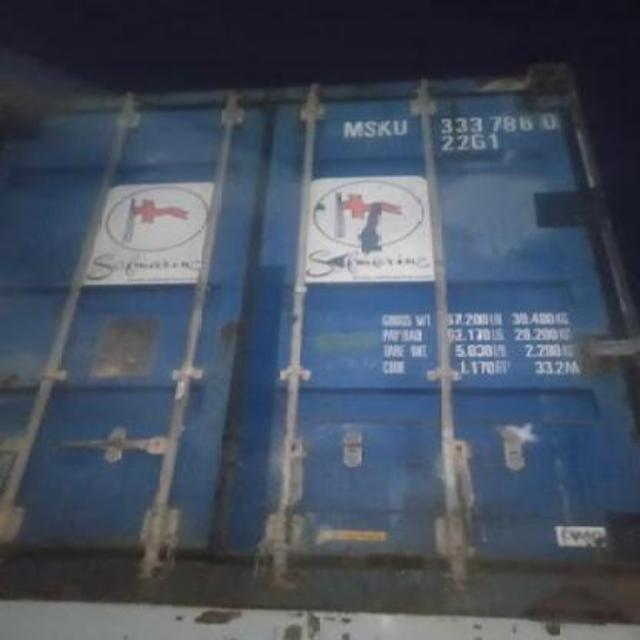0: (542, 111, 556, 131)
3: (466, 116, 484, 134), (438, 116, 454, 134), (454, 114, 466, 136)
6: (518, 113, 532, 131)
7: (486, 114, 502, 132)
8: (502, 114, 518, 132)
K: (378, 119, 392, 137)
M: (342, 118, 363, 138)
S: (362, 119, 378, 137)
U: (392, 119, 410, 135)
